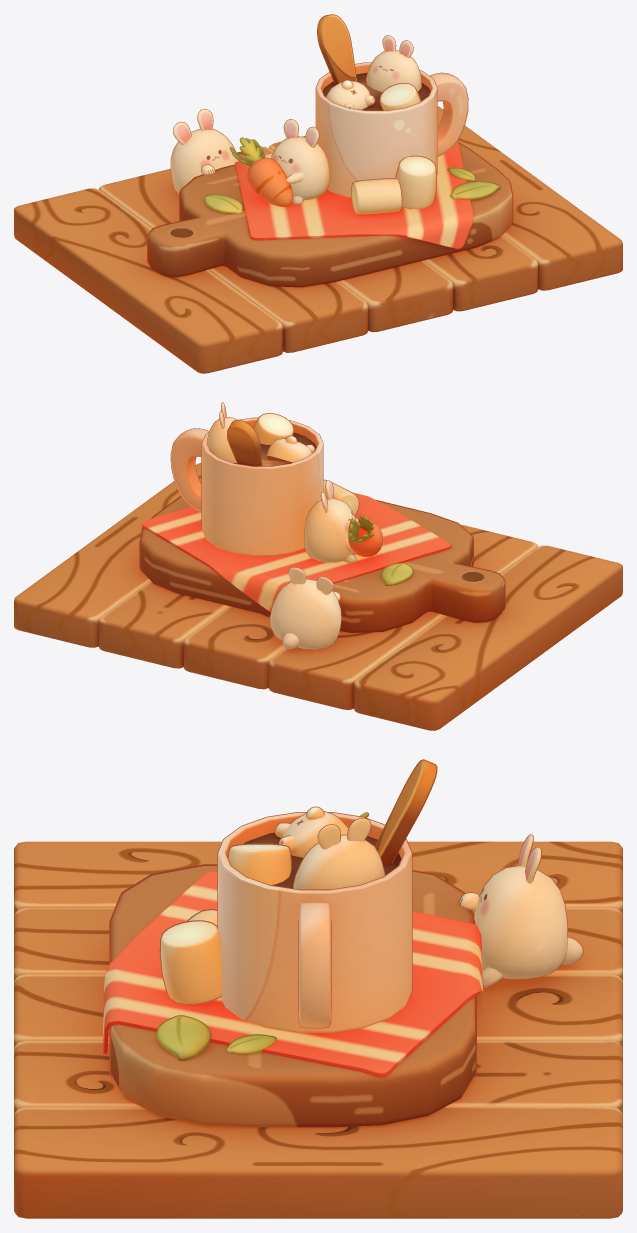
Rendered from choco_bunny.glb.
3 renders of one model, top to bottom at view 1: azimuth 30°, elevation 25°; view 2: azimuth 150°, elevation 25°; view 3: azimuth 270°, elevation 25°, orthographic. The views are drawn at different scales.
Visible parts, largest first — view 1: Table, Table_chow, Cup, Bony, Malva, Carriot, Palette, Leaf; view 2: Table, Table_chow, Cup, Bony, Malva, Palette, Carriot, Leaf; view 3: Table, Table_chow, Cup, Bony, Malva, Palette, Leaf.
Part boxes in pixels (x1,y1,x2,y2): Table: (14,106,622,373); Table_chow: (147,141,513,287); Cup: (315,62,468,197); Bony: (170,35,421,204); Malva: (351,82,436,214); Carriot: (229,137,292,206); Palette: (317,14,357,84); Leaf: (204,167,500,214); Table: (14,463,622,730); Table_chow: (139,492,505,632); Cup: (170,417,323,555); Bony: (207,402,358,649); Malva: (253,413,359,515); Palette: (227,419,261,466); Carriot: (348,514,382,556); Leaf: (380,562,413,585); Table: (14,841,622,1218); Table_chow: (103,864,483,1127); Cup: (217,812,412,1032); Bony: (274,806,583,988); Malva: (159,843,291,1004); Palette: (375,759,437,865); Leaf: (156,1015,276,1060).
Size of the model in its own units: 4.77 by 2.19 by 3.7.
4 materials, 4 textured.
